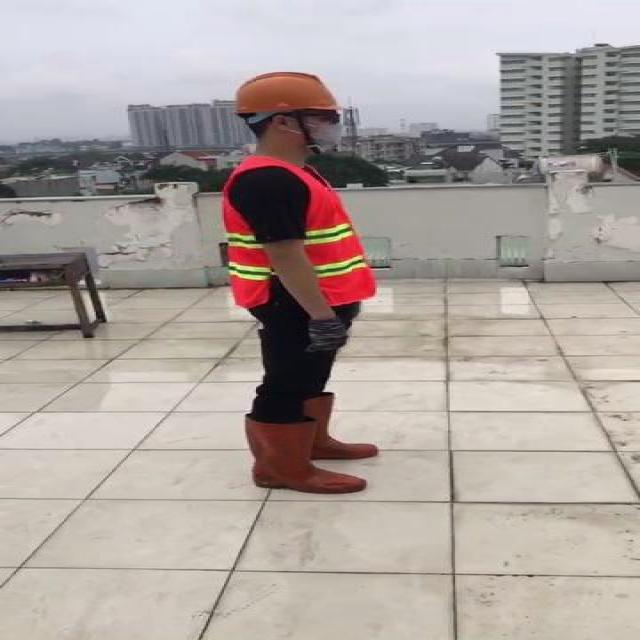boots: (246, 412, 366, 497), (274, 390, 384, 460)
face_mask: (293, 110, 351, 152)
hand_glove: (299, 316, 359, 356)
head_helmet: (226, 68, 345, 117)
person: (201, 61, 418, 497)
vest: (220, 156, 372, 307)
